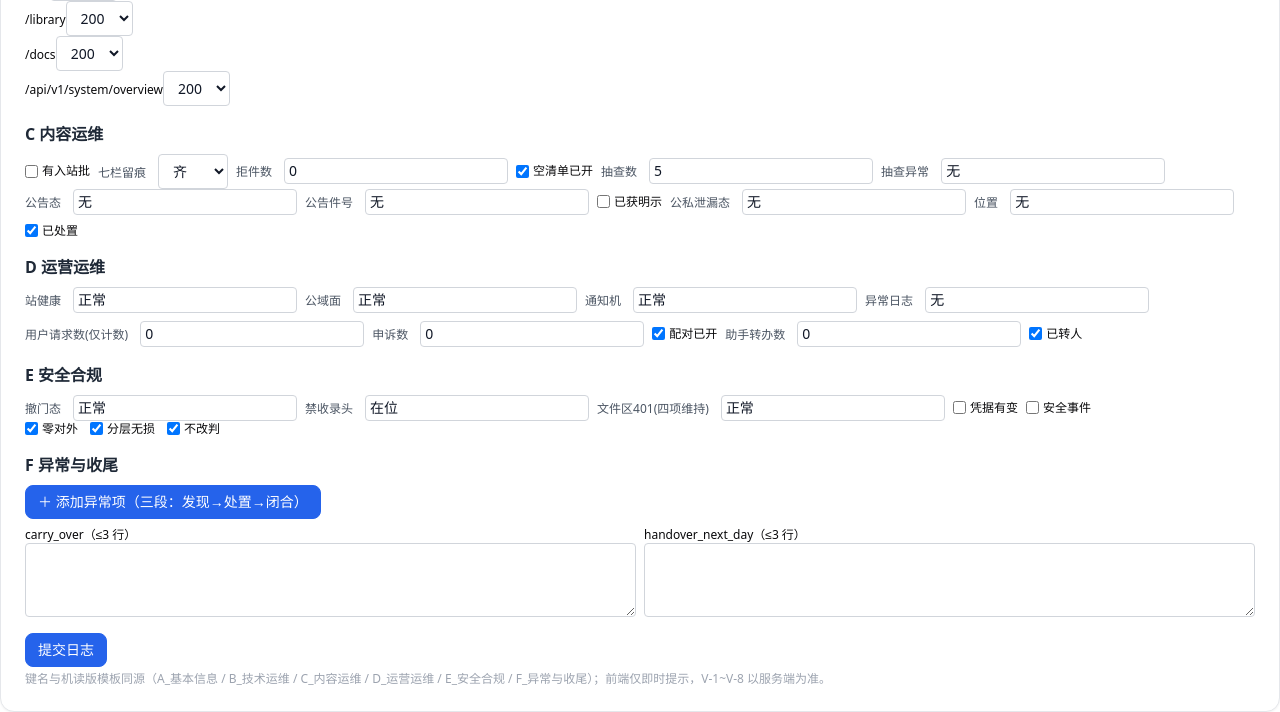
it: 乙案 P2 · 运维日志表单（/ops/logs） › 异常项三段三格；未闭合展开下一步+时限
(page scrolled)
What coordinates should you click on to do the following:
click the button "＋ 添加异常项（三段：发现→处置→闭合）"
I would click on:
 (173, 502)
Its box is [25,484,321,518].
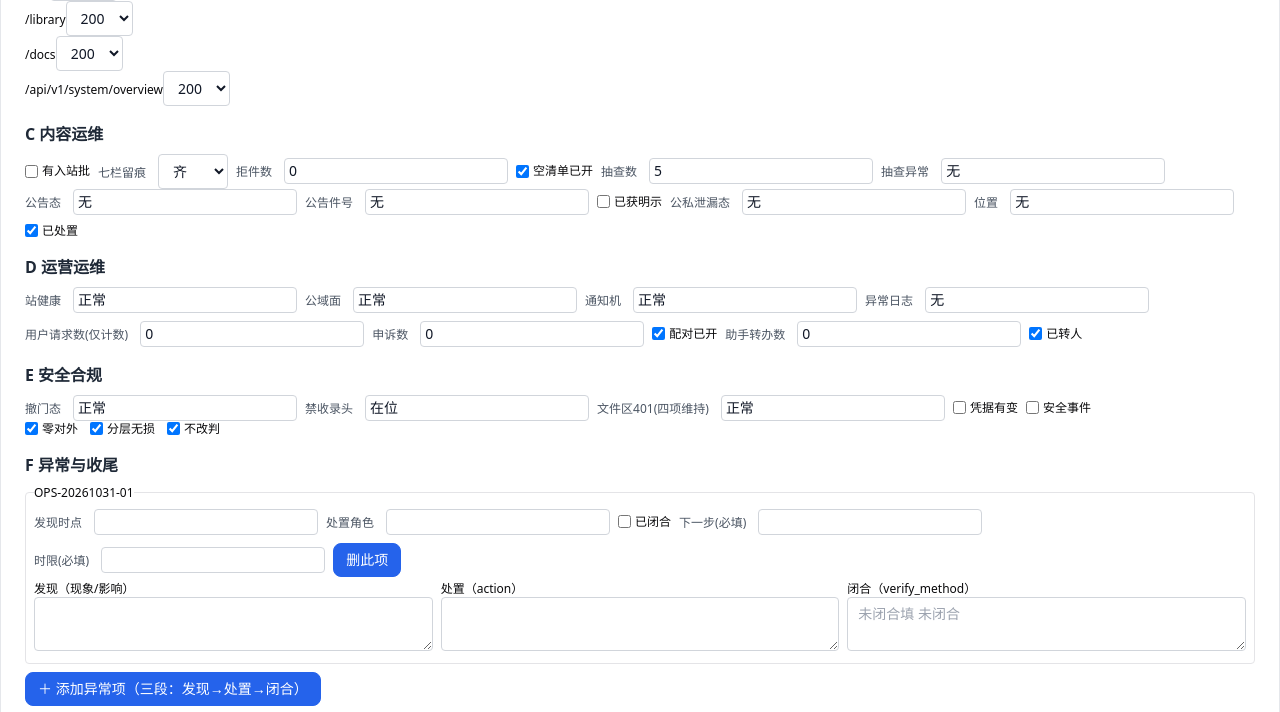
Expected: the element with test id "ex-0" is shown, [25,484,1255,664]
Expected: the text "下一步(必填)" is shown, [679,508,982,534]
Expected: the text "时限(必填)" is shown, [34,546,325,572]
